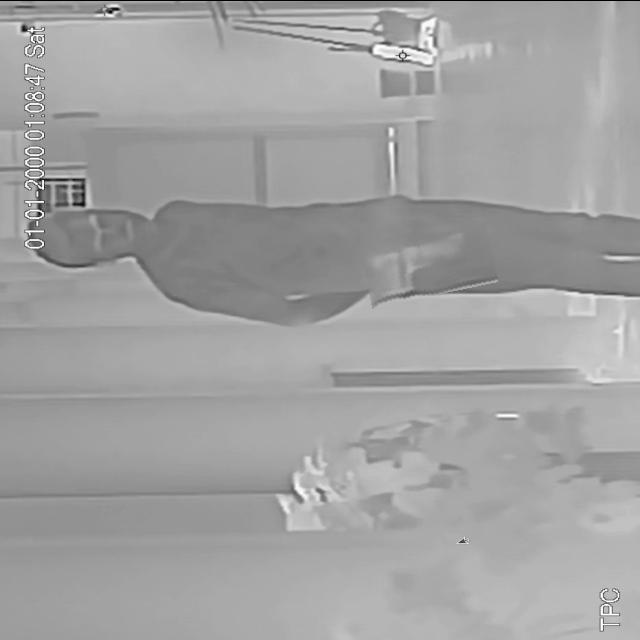Weapon: (362, 222, 496, 301)
